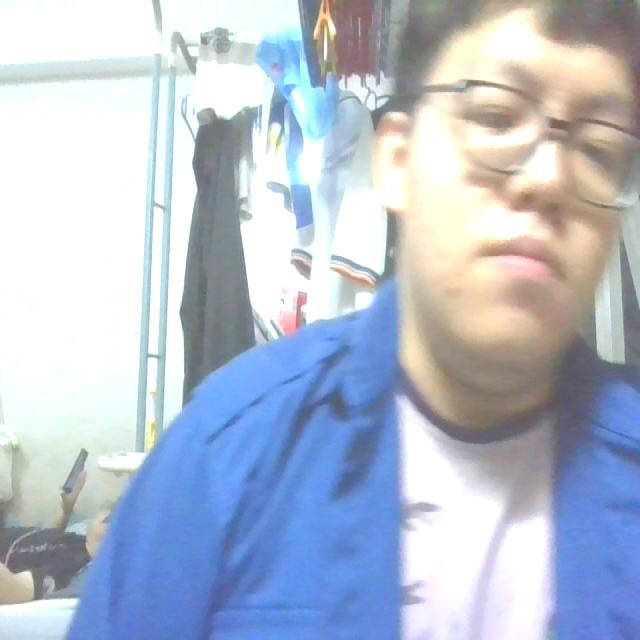person_with_labcoat: (74, 0, 639, 639)
